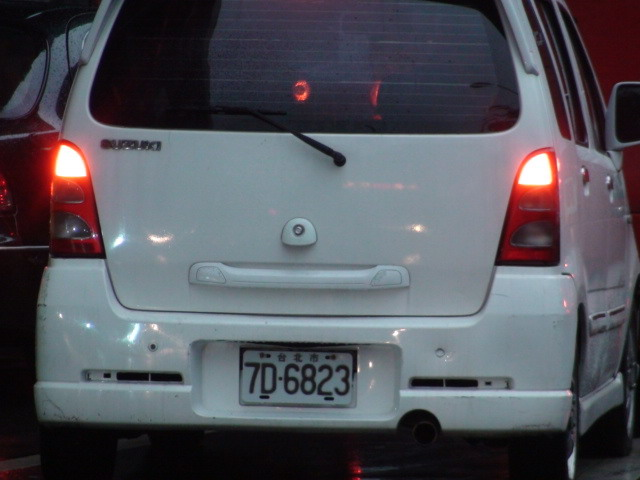plate: (236, 345, 360, 411)
